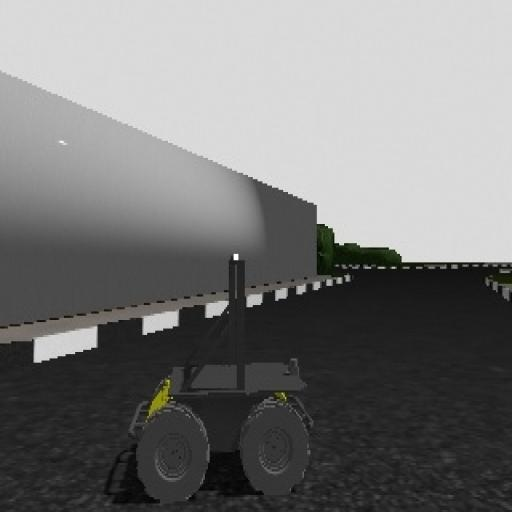huskya200: (100, 246, 360, 510)
